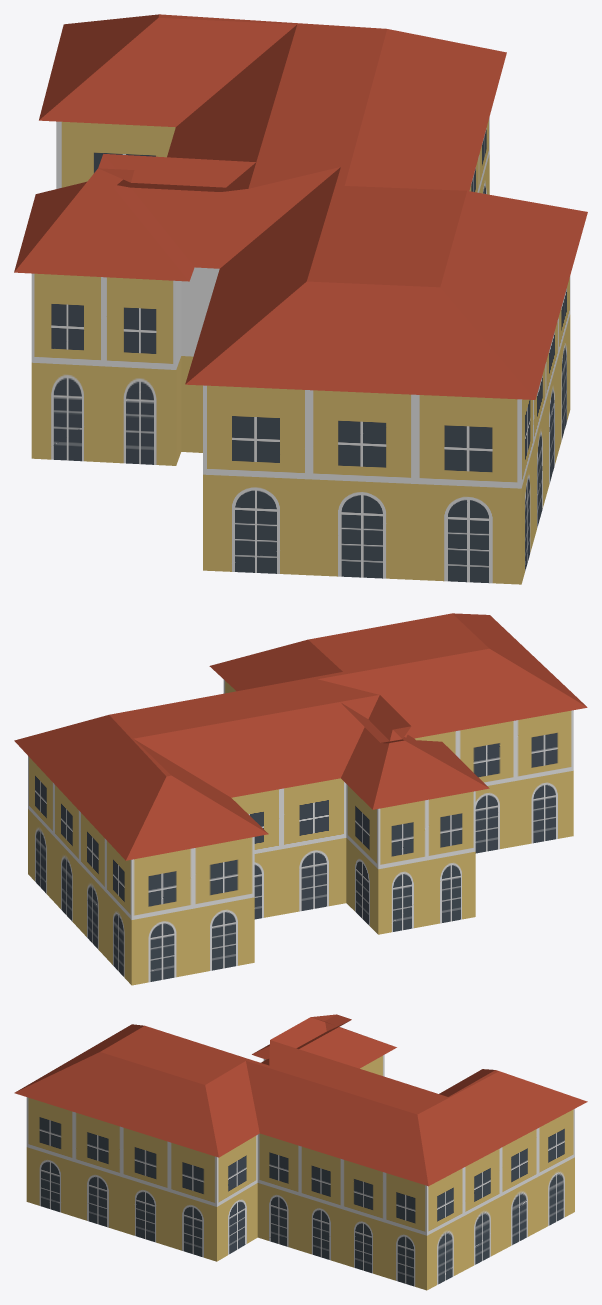
File: governor.glb
3 renders of one model, top to bottom at view 1: azimuth 30°, elevation 25°; view 2: azimuth 150°, elevation 25°; view 3: azimuth 270°, elevation 25°, orthographic. The views are drawn at different scales.
Parts seen in each view (by area): view 1: governor_lod0; view 2: governor_lod0; view 3: governor_lod0.
Part boxes in pixels (x1,y1,x2,y2): governor_lod0: (14,14,587,584); governor_lod0: (14,613,587,985); governor_lod0: (14,1014,587,1290).
Size of what is drawn, in the model's own units: 25.96 by 10.6 by 37.99.
Materials: 4 (2 with a texture image).
